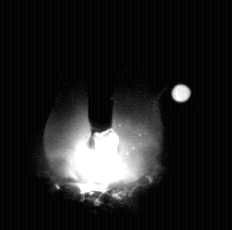arame: (88, 0, 114, 133)
poca: (43, 0, 163, 230)
